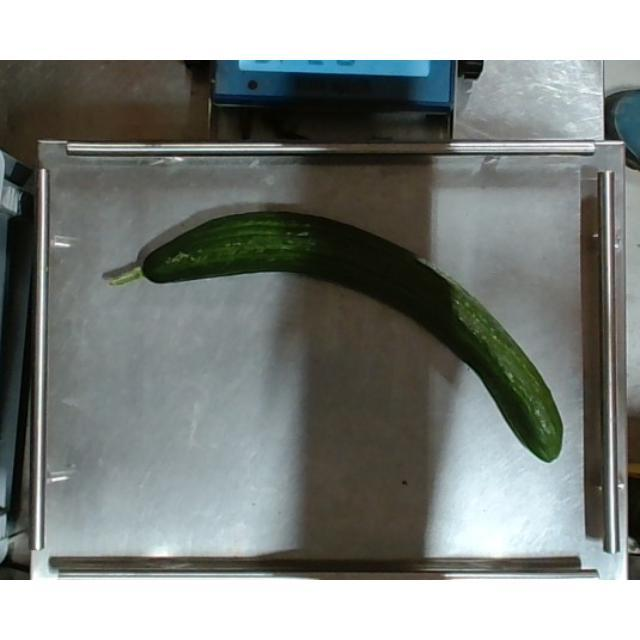cucumber: (109, 208, 563, 464)
